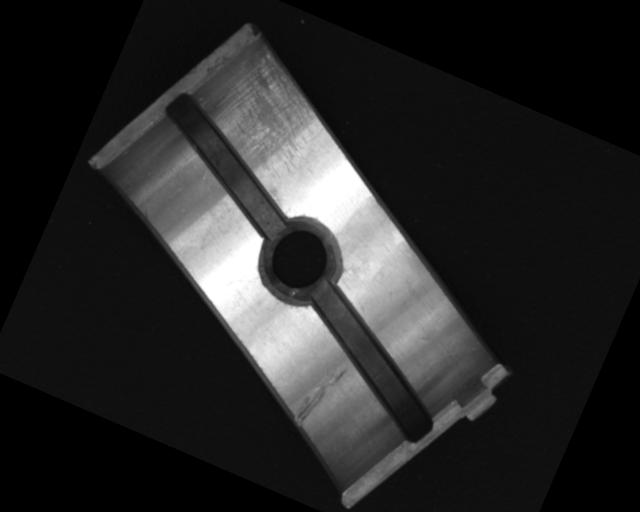gap: (278, 278, 467, 447), (133, 88, 318, 242)
hole: (250, 205, 350, 311)
nick: (288, 355, 350, 437)
scratch: (197, 42, 340, 186)
